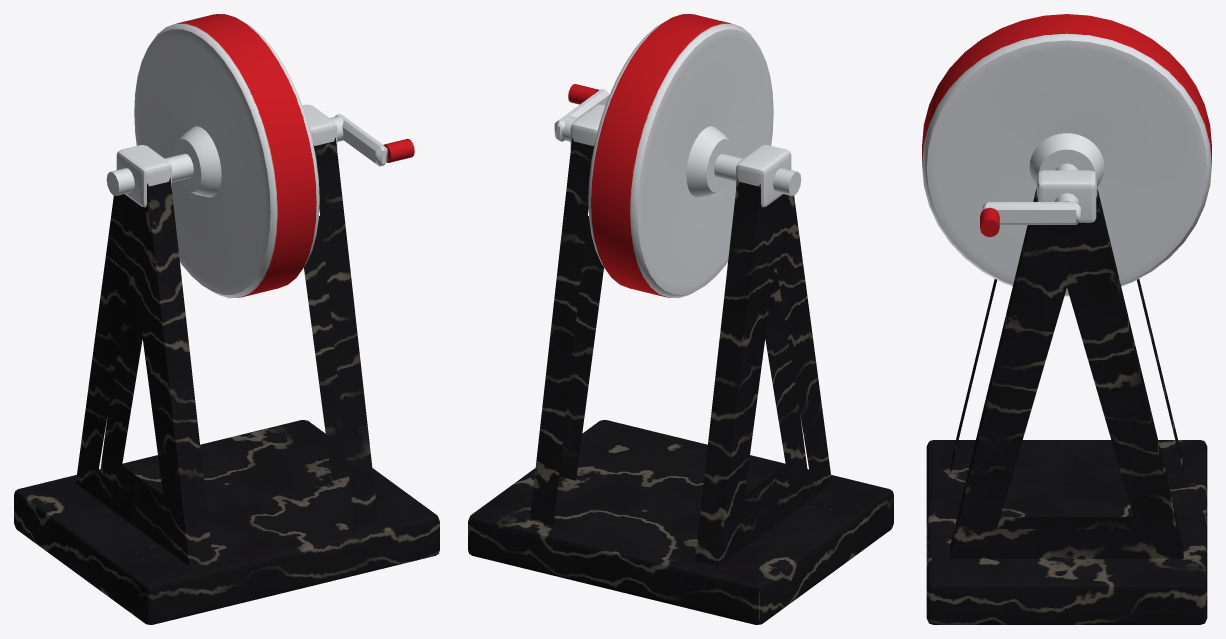
The model's file is SM_FS_Grindstone.glb.
3 renders of one model, left to right at view 1: azimuth 30°, elevation 25°; view 2: azimuth 150°, elevation 25°; view 3: azimuth 270°, elevation 25°, orthographic. The views are drawn at different scales.
Visible parts, largest first — view 1: SM_FS_Grindstone; view 2: SM_FS_Grindstone; view 3: SM_FS_Grindstone.
Boxes of the visible parts, <box> form: SM_FS_Grindstone: <box>14,14,439,624</box>; SM_FS_Grindstone: <box>468,14,893,624</box>; SM_FS_Grindstone: <box>922,14,1211,624</box>.
Size of the model in its own units: 0.15 by 0.25 by 0.124.
1 material, 1 textured.
